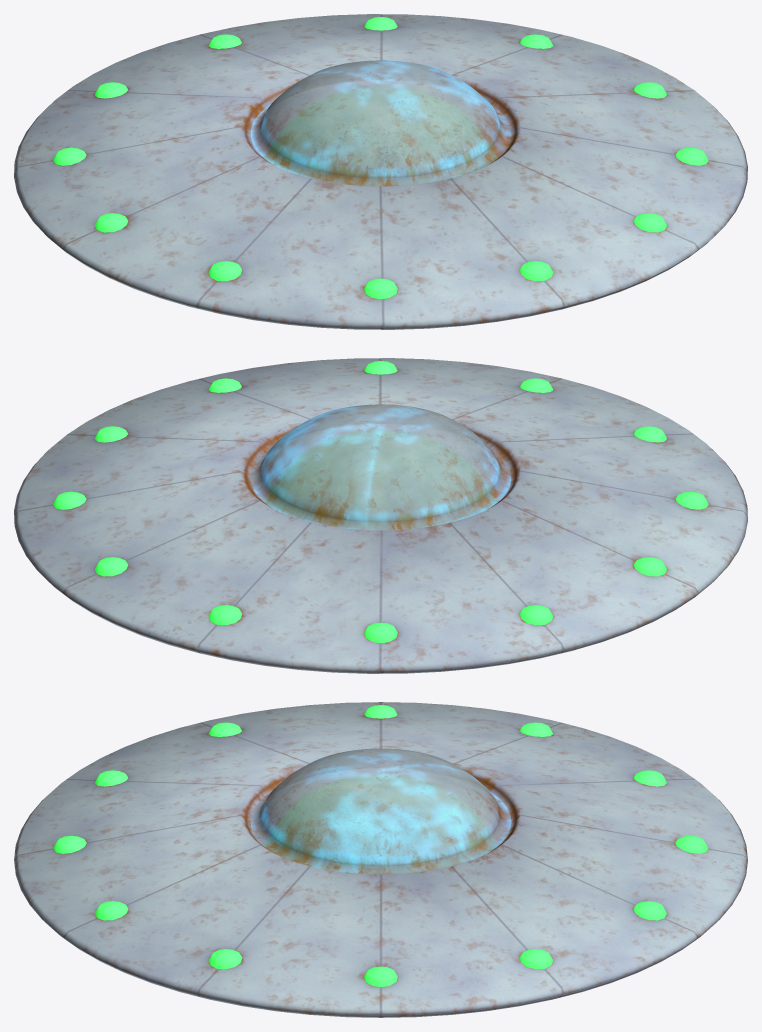
The model's file is ufo.glb.
The picture shows the model from 3 angles, top to bottom: view 1: azimuth 30°, elevation 25°; view 2: azimuth 150°, elevation 25°; view 3: azimuth 270°, elevation 25°; orthographic projection.
Parts seen in each view (by area): view 1: ufo_low; view 2: ufo_low; view 3: ufo_low.
Part boxes in pixels (box(x1,y1,x2,y2)): ufo_low: box(14, 14, 747, 329); ufo_low: box(14, 358, 747, 673); ufo_low: box(14, 702, 747, 1017).
Bounding box in the file's own units: 200 × 48.97 × 200.
Materials: 1 (1 with a texture image).
